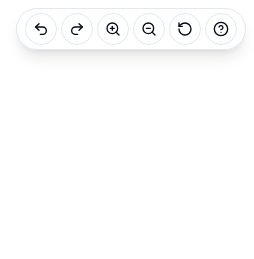
Test: canvas help in the zoom controls › opens a tips panel under the zoom group and matches its width
expect the element "Canvas help" is not shown: met
Step 1. Click the button named "Show canvas help" → (221, 29), box [205,13,237,45]
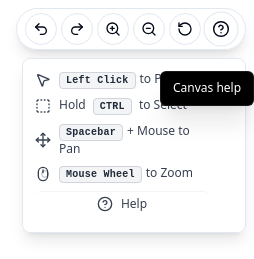
expect the element named "Canvas help" is shown: met, box [22,58,246,233]
expect the element named "Canvas help" shows "Left Click": met, box [66,75,128,86]
expect the element named "Canvas help" shows "to Paint": met, box [140,70,183,87]
